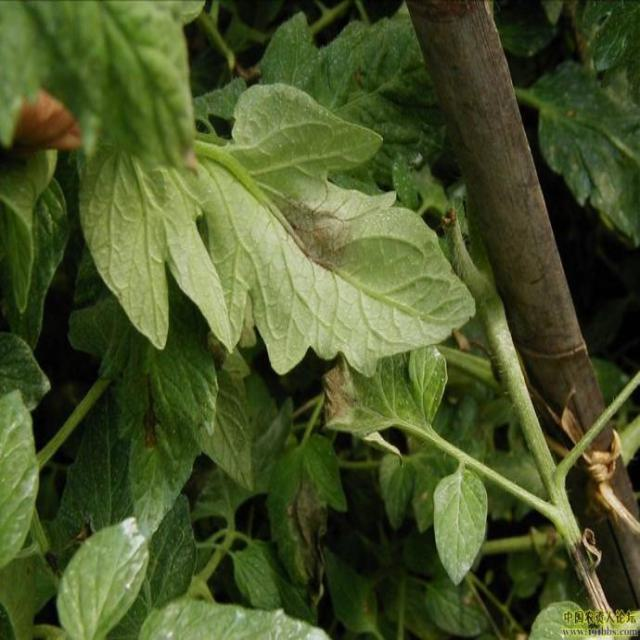Early_blight: (280, 193, 362, 272), (287, 474, 333, 612), (7, 89, 89, 158), (321, 356, 362, 432), (137, 370, 162, 447)
